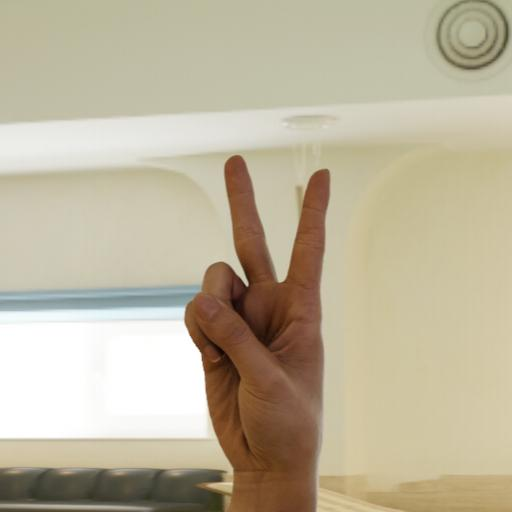V: (153, 144, 387, 512)
